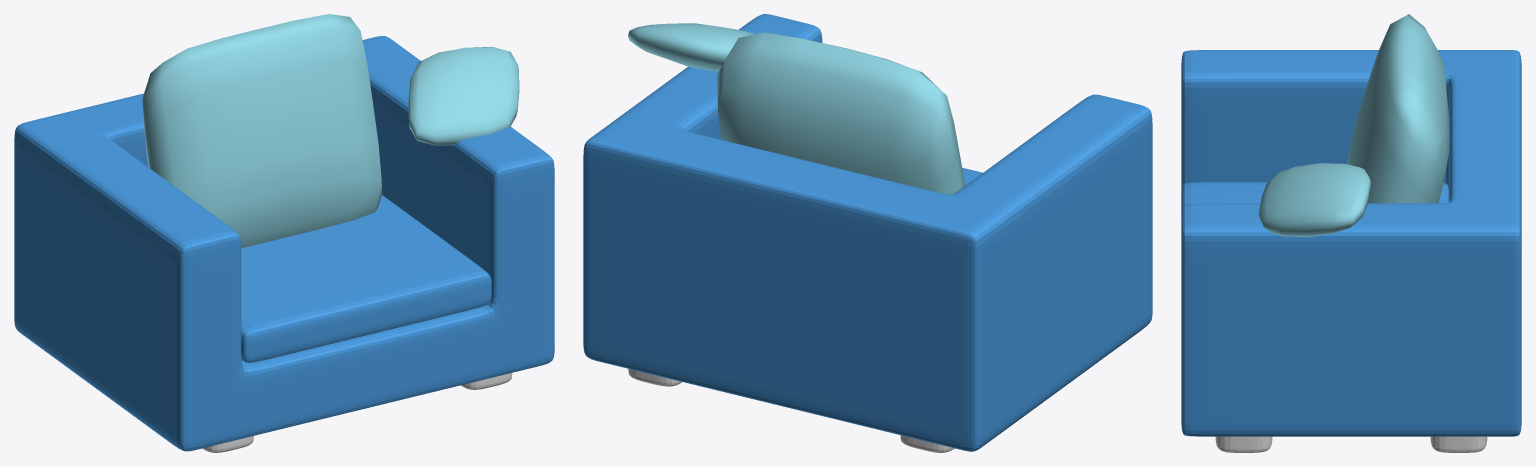
File: bench.glb
3 views of the same model, side by side, from view 1: azimuth 30°, elevation 25°; view 2: azimuth 150°, elevation 25°; view 3: azimuth 270°, elevation 25° (orthographic). The views are drawn at different scales.
Parts seen in each view (by area): view 1: bench, Pillow.006, pillow small.006, couch legs.002; view 2: bench, Pillow.006, pillow small.006, couch legs.002; view 3: bench, Pillow.006, pillow small.006, couch legs.002.
Part boxes in pixels (<box>): bench: <box>14,36,554,451</box>; Pillow.006: <box>142,14,382,248</box>; pillow small.006: <box>408,46,519,145</box>; couch legs.002: <box>202,373,512,452</box>; bench: <box>583,14,1152,451</box>; Pillow.006: <box>717,32,965,194</box>; pillow small.006: <box>628,23,754,71</box>; couch legs.002: <box>628,369,954,452</box>; bench: <box>1181,50,1521,436</box>; Pillow.006: <box>1347,14,1449,203</box>; pillow small.006: <box>1258,163,1370,237</box>; couch legs.002: <box>1215,436,1487,452</box>.
Bounding box in the file's own units: 1.27 × 0.9545 × 0.9.
